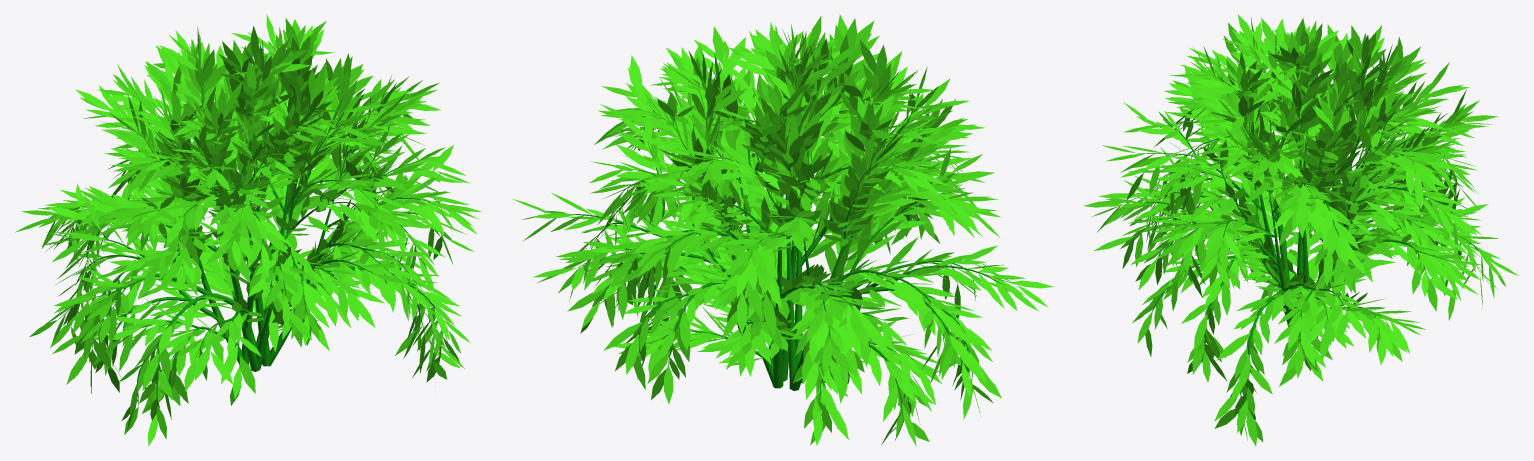
The model's file is bush1.fbx.
3 renders of one model, left to right at view 1: azimuth 30°, elevation 25°; view 2: azimuth 150°, elevation 25°; view 3: azimuth 270°, elevation 25°, orthographic. The views are drawn at different scales.
Visible parts, largest first — view 1: leaves, bush; view 2: leaves, bush; view 3: leaves, bush.
Part boxes in pixels (x1,y1,x2,y2): leaves: [15, 14, 481, 446]; bush: [58, 46, 448, 406]; leaves: [513, 14, 1053, 446]; bush: [573, 58, 1015, 418]; leaves: [1084, 14, 1518, 446]; bush: [1125, 47, 1481, 397].
Size of the model in its own units: 390 by 318 by 354.
